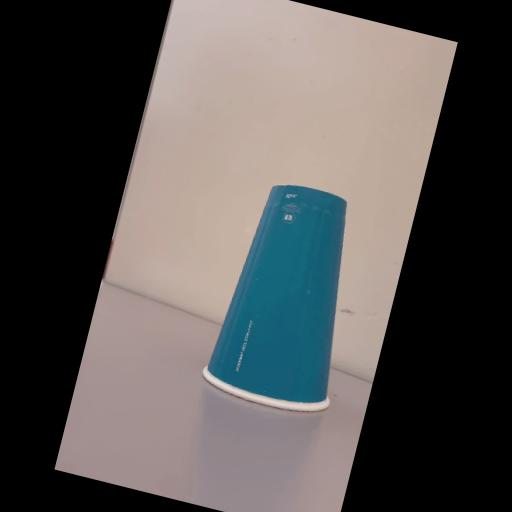lp_paper_cup: (198, 173, 382, 422)
